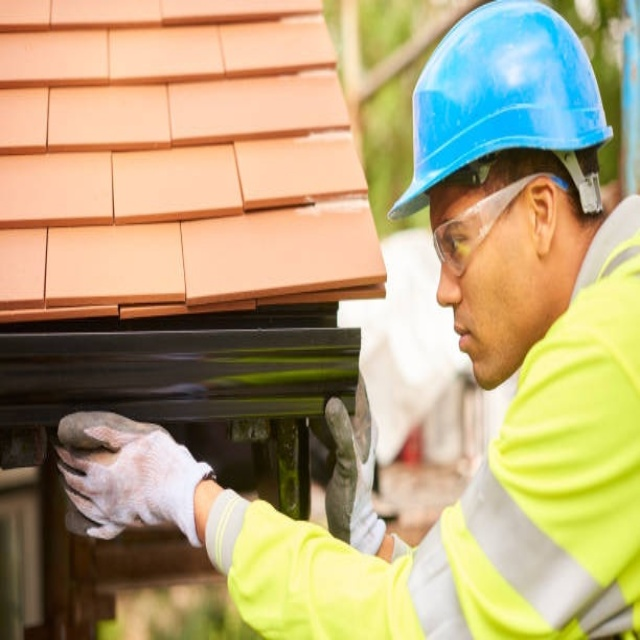Gafas: (431, 174, 568, 279)
Guantes: (53, 411, 215, 547), (324, 379, 387, 556)
Sin_mascara: (448, 304, 505, 387)
